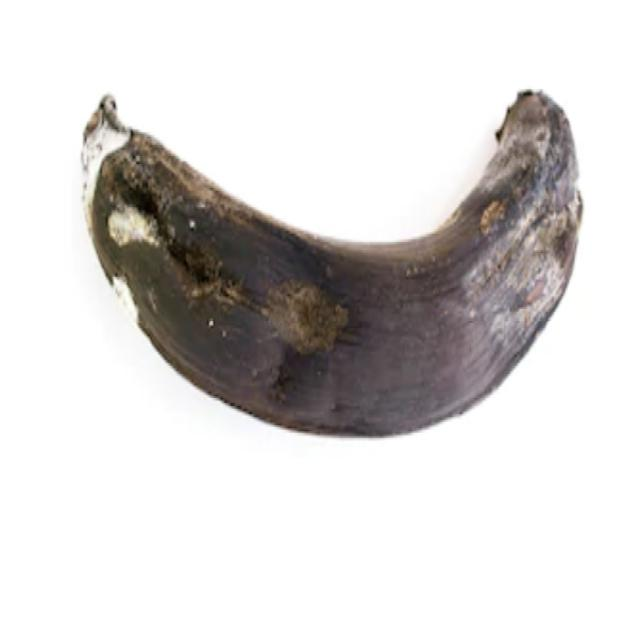rotten-banana: (79, 86, 584, 439)
